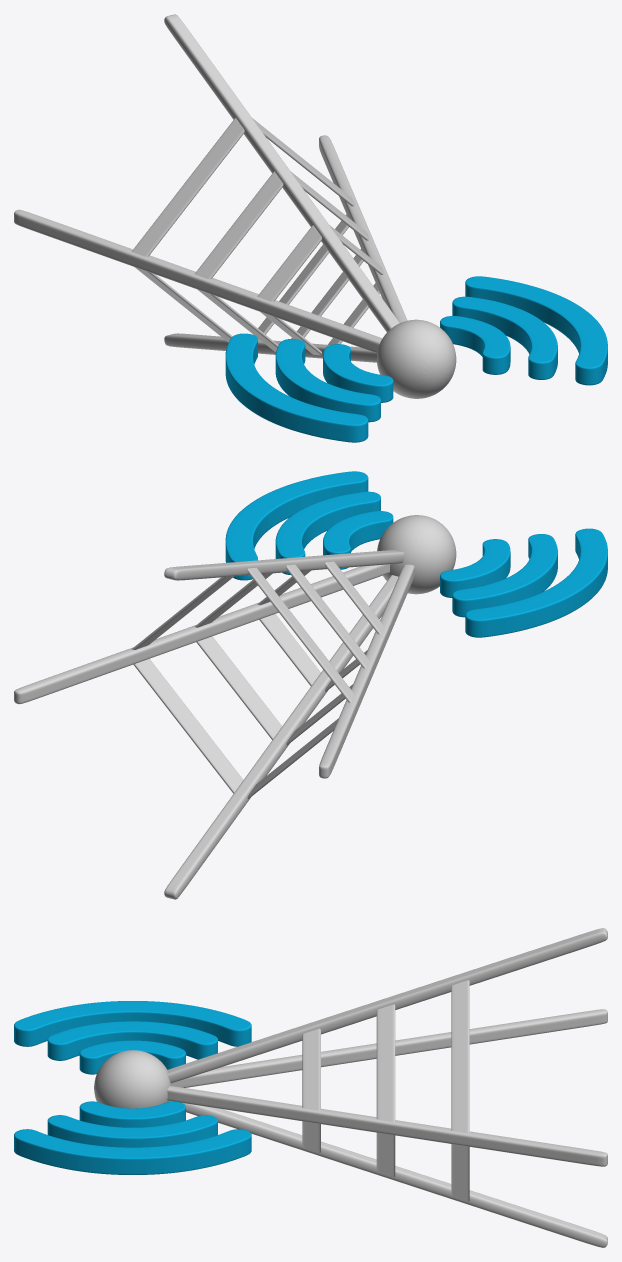
The model's file is generic_networktower.glb.
3 views of the same model, one above another, from view 1: azimuth 30°, elevation 25°; view 2: azimuth 150°, elevation 25°; view 3: azimuth 270°, elevation 25° (orthographic). The views are drawn at different scales.
Parts seen in each view (by area): view 1: NetworkTower; view 2: NetworkTower; view 3: NetworkTower.
Part boxes in pixels (bbox=[...]): NetworkTower: bbox=[14, 14, 607, 442]; NetworkTower: bbox=[14, 471, 607, 899]; NetworkTower: bbox=[14, 928, 607, 1247].
Size of the model in its own units: 0.6899 by 0.6435 by 1.1.
